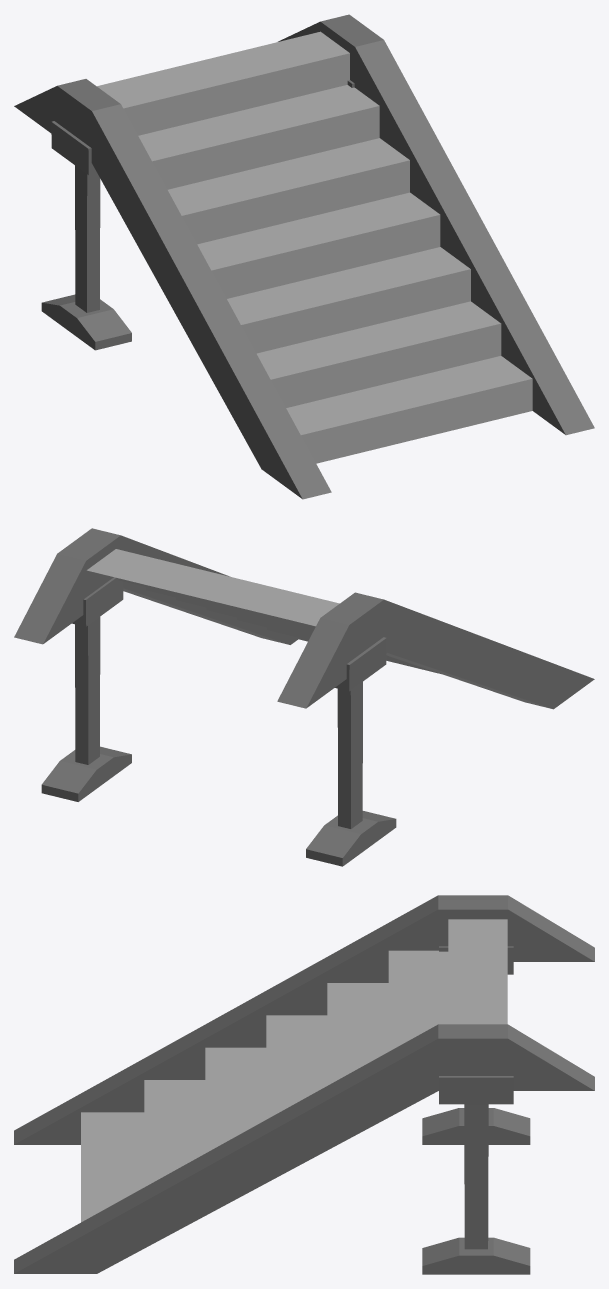
The model's file is Stairs.glb.
3 renders of one model, top to bottom at view 1: azimuth 30°, elevation 25°; view 2: azimuth 150°, elevation 25°; view 3: azimuth 270°, elevation 25°, orthographic.
Visible parts, largest first — view 1: Stairs; view 2: Stairs; view 3: Stairs.
Part boxes in pixels (box(x1,y1,x2,y2)): Stairs: box(14, 14, 594, 499); Stairs: box(14, 528, 594, 866); Stairs: box(14, 895, 594, 1274).
Bounding box in the file's own units: 1.87 × 1.39 × 3.11.
1 material, 1 textured.
